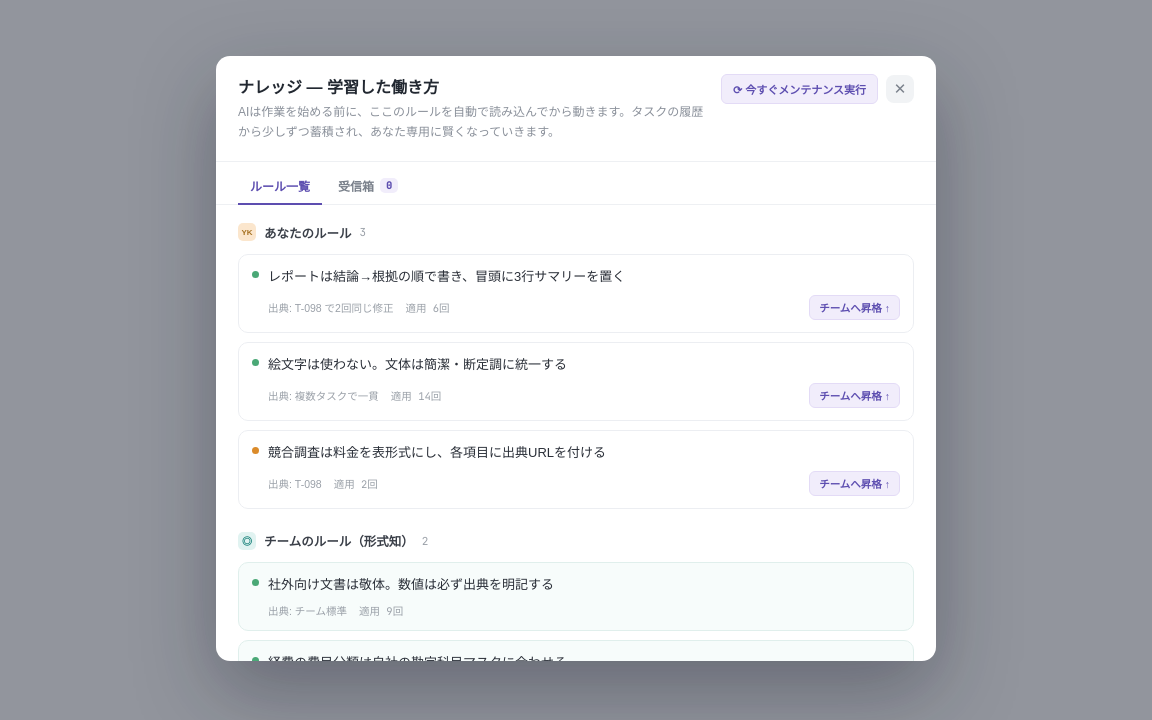
Scenario: KnowledgeOverlay: 受信箱タブ（#26） › 受信箱が空なら空状態文言を出す
The width and height of the screenshot is (1152, 720).
Click the tab "受信箱 0": (368, 187) left=326, top=170, right=410, bottom=205
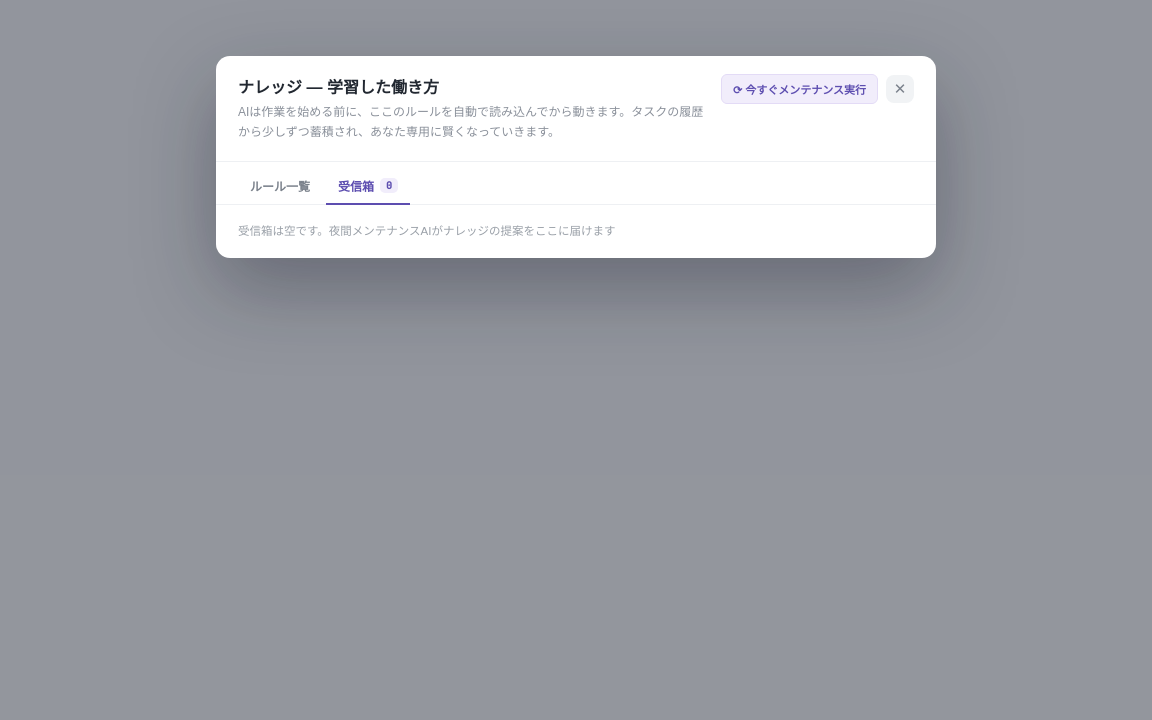
Expected: the text "受信箱は空です。夜間メンテナンスAIがナレッジの提案をここに届けます" is shown, left=238, top=225, right=616, bottom=237
